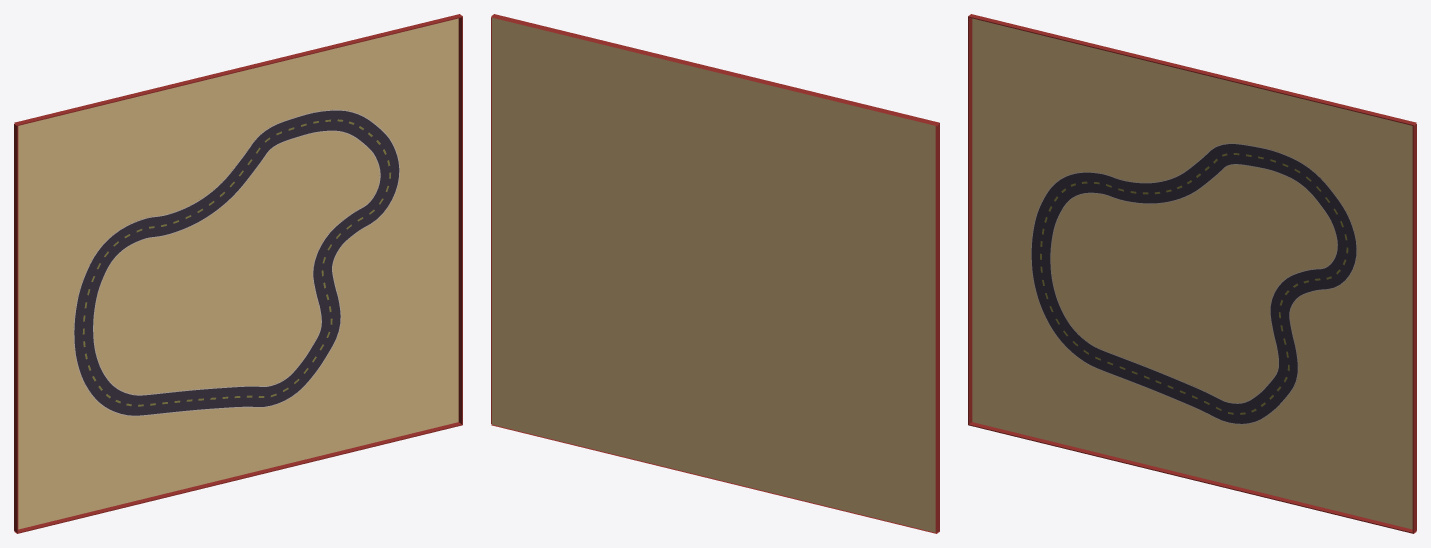
File: track.obj
3 views of the same model, side by side, from view 1: azimuth 30°, elevation 25°; view 2: azimuth 150°, elevation 25°; view 3: azimuth 330°, elevation 25° (orthographic).
Size of the model in its own units: 23.57 by 20.66 by 0.3.
5 materials, 5 textured.
